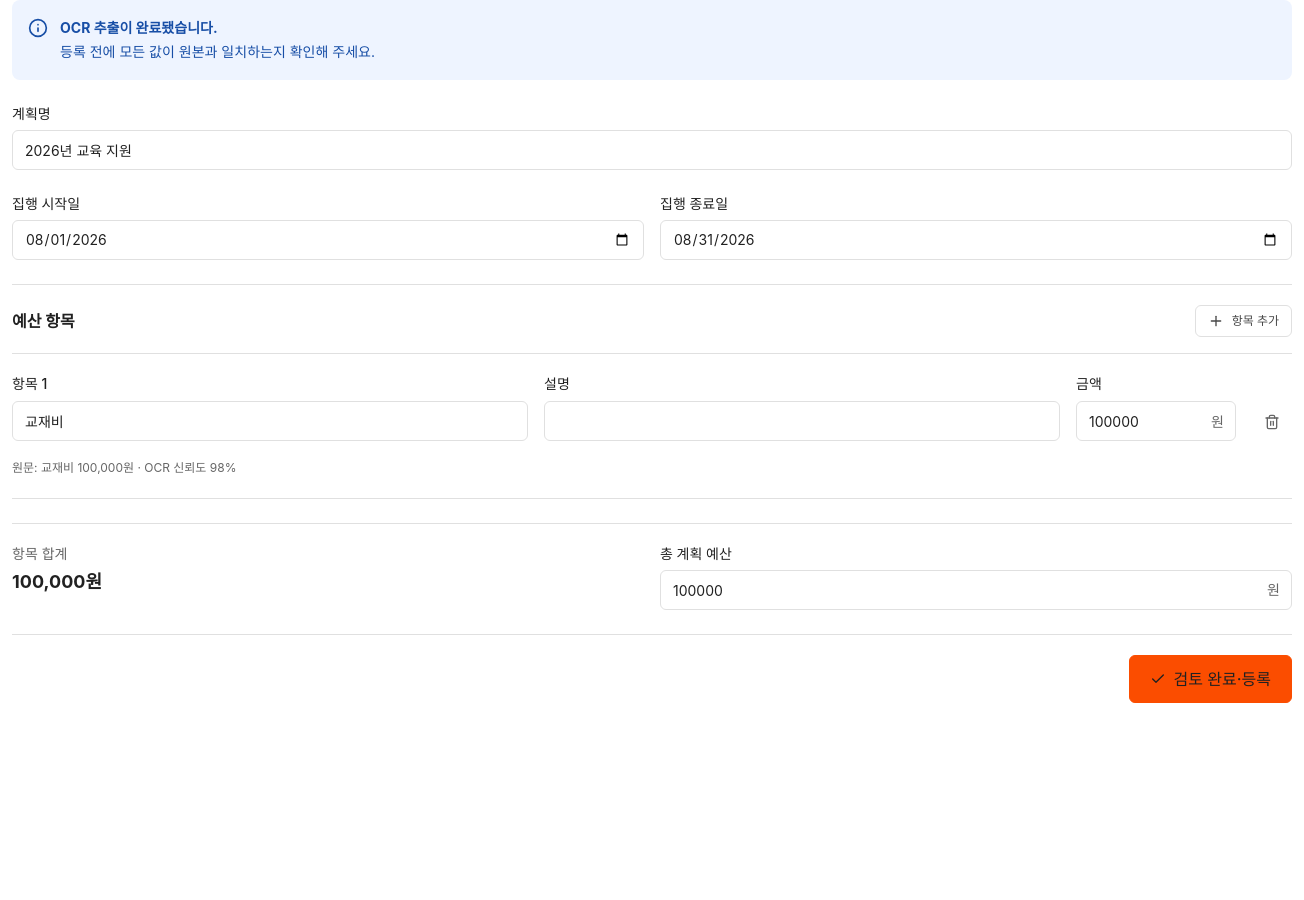
it: PlanReviewForm › blocks registration when item sum and total do not match
This screenshot has width=1304, height=900.
Replace the text in the number field labelled "금액" with "90000": (1156, 421) top-left (1076, 401), bottom-right (1236, 441)
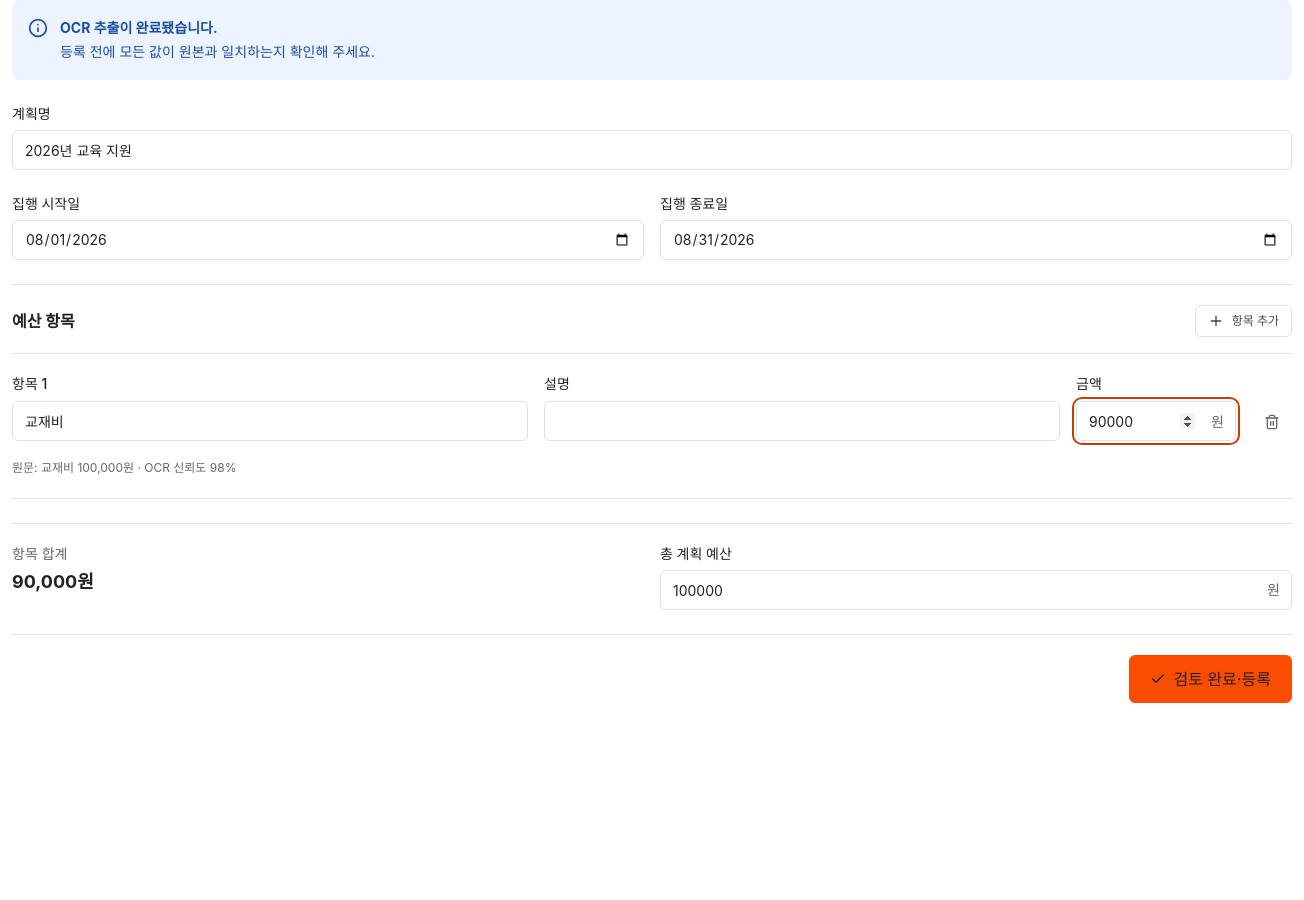
Click the button "검토 완료·등록": (1210, 679) top-left (1129, 655), bottom-right (1292, 703)
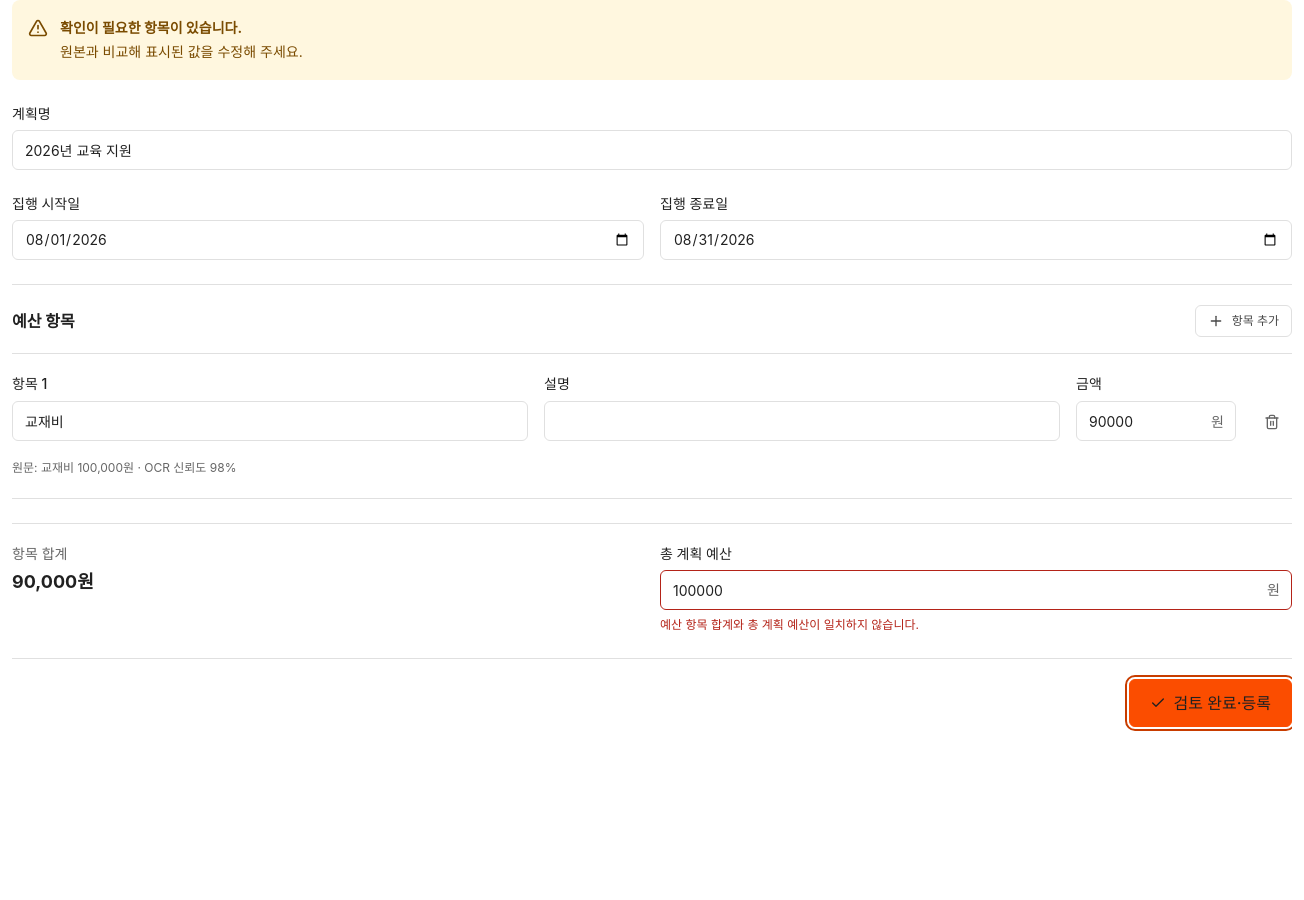
Check: the text "예산 항목 합계와 총 계획 예산이 일치하지 않습니다." is shown, box top-left (660, 617), bottom-right (919, 632)
